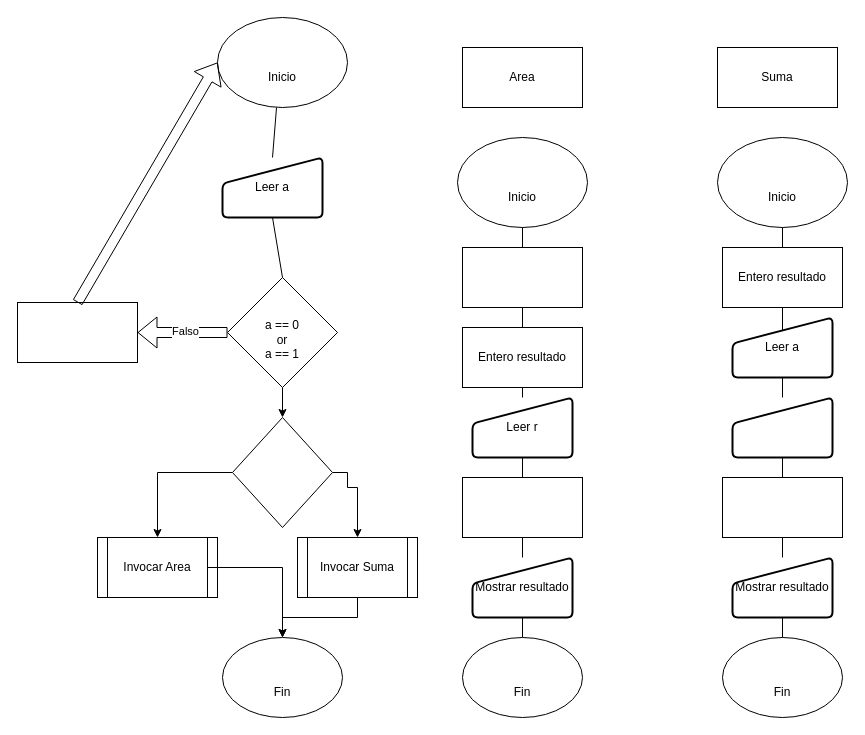
This 865x735 diagram has some shape labels left out. The box of each missing label's shape, as (x1, y1, x2, y2) in pixels:
a == 0: (232, 416, 332, 528)
Entero PI = 3.14159: (462, 246, 582, 308)
Error: (16, 302, 138, 362)
Leer b: (731, 396, 833, 458)
resultado = a+b: (722, 476, 842, 538)
resultado = PI+r+r: (462, 476, 582, 538)
